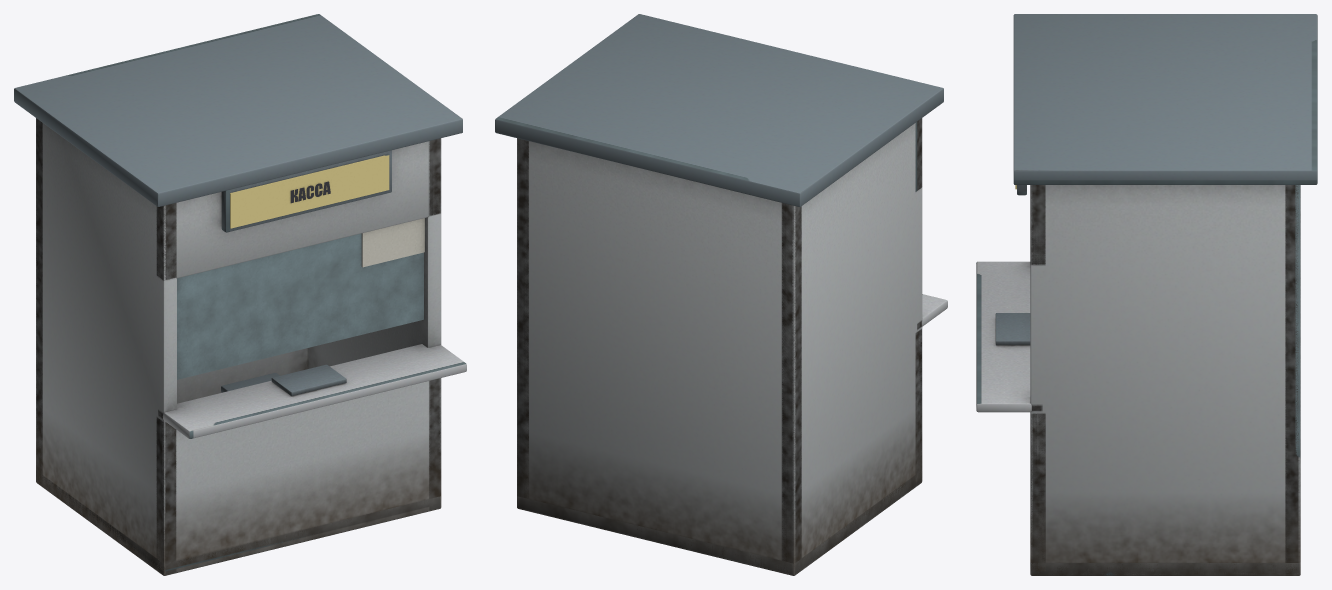
Rendered from g67_pz_booth.glb.
3 renders of one model, left to right at view 1: azimuth 30°, elevation 25°; view 2: azimuth 150°, elevation 25°; view 3: azimuth 270°, elevation 25°, orthographic. The views are drawn at different scales.
Visible parts, largest first — view 1: g67_pz_booth, glass; view 2: g67_pz_booth; view 3: g67_pz_booth.
Boxes of the visible parts, <box> form: g67_pz_booth: <box>14,14,466,575</box>; glass: <box>177,233,423,379</box>; g67_pz_booth: <box>495,14,947,575</box>; g67_pz_booth: <box>976,14,1317,575</box>.
Size of the model in its own units: 2.2 by 2.7 by 2.02.
Materials: 1 (1 with a texture image).
